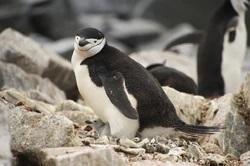chinstrap: (64, 22, 210, 147)
